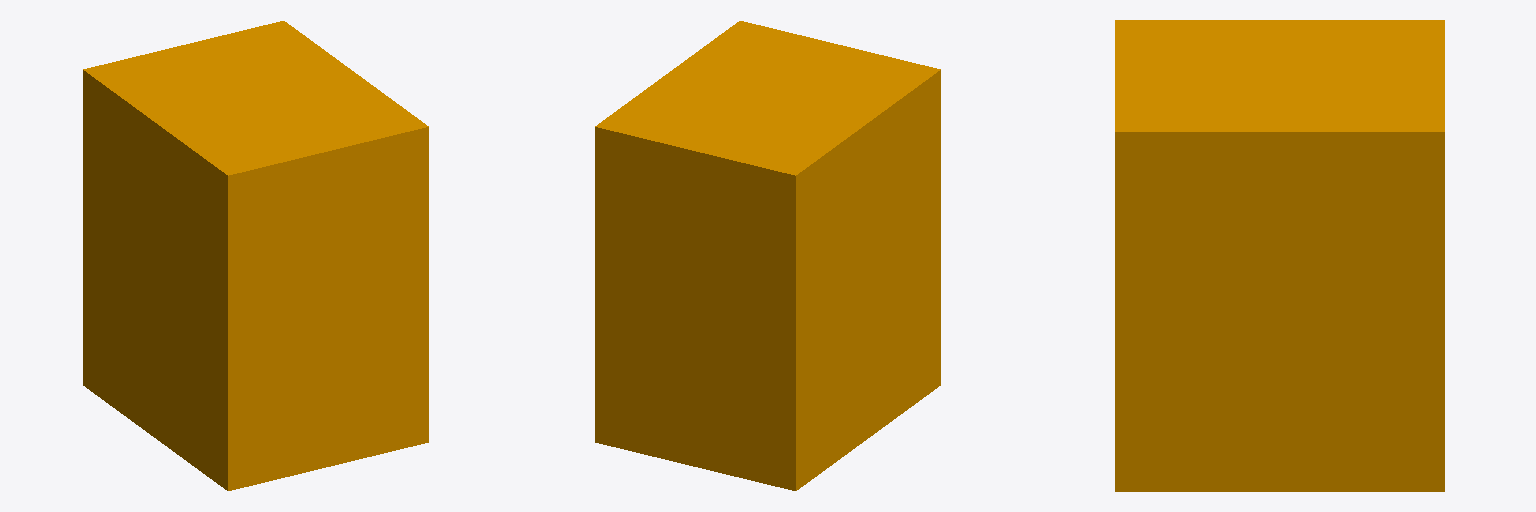
The robot description file, URDF, robot "object":
<?xml version="0.0"?>
	<robot name="object">
		<link name="object">
			<visual>
				<origin xyz="0 0 0"/>
				<geometry>
					<box size="0.4 0.5 0.6"/>
				</geometry>
			</visual>
			<inertial>
				<mass value="12.000"/>
			</inertial>
			<collision>
				<origin xyz="0 0 0"/>
				<geometry>
					<box size="0.4 0.5 0.6"/>
				</geometry>
			</collision>
		</link>

	</robot>

--- Facts derived from the render (not from the file) ---
Views: 3 orthographic renders of the robot side by side, from view 1: azimuth 30°, elevation 25°; view 2: azimuth 150°, elevation 25°; view 3: azimuth 270°, elevation 25°.
Model object with 1 links and 0 joints (none), rooted at object, posed all joints at 0.
Visible links, largest first — view 1: object; view 2: object; view 3: object.
Link boxes in pixels (x1=…): object: x1=83, y1=21, x2=428, y2=490; object: x1=595, y1=21, x2=940, y2=490; object: x1=1115, y1=20, x2=1444, y2=491.
Size in the robot's own frame: 0.4 by 0.5 by 0.6 metres.
Geometry: primitives only (box / cylinder / sphere), no mesh files.